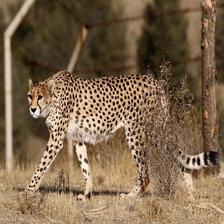Cheetah: (21, 68, 223, 200)
